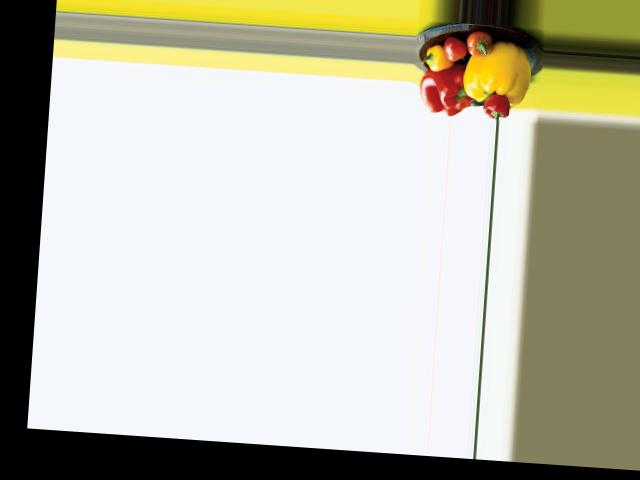bell_pepper: (422, 45, 451, 73)
